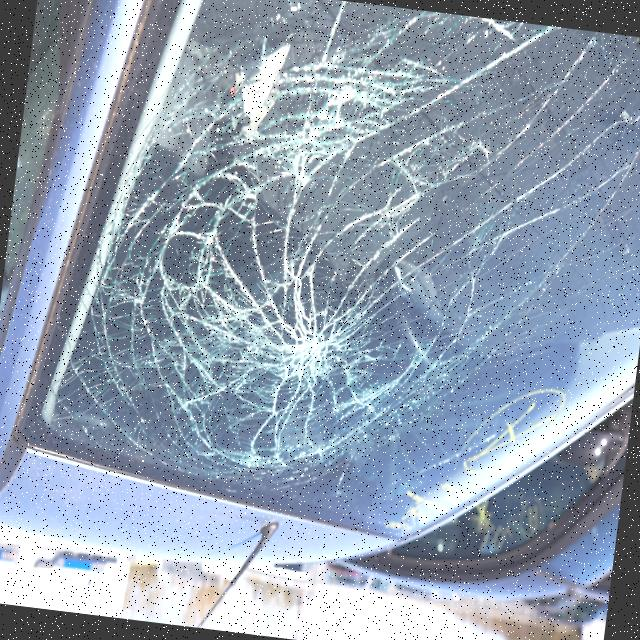Windshield: (129, 0, 535, 516)
